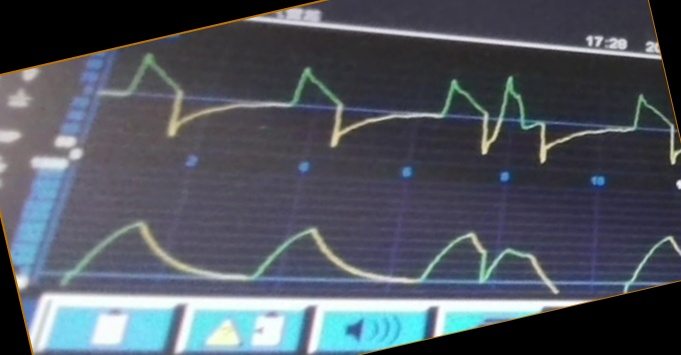Double_Triggering Flow: (141, 60, 613, 162)
Double_Triggering Volume: (140, 205, 608, 291)
